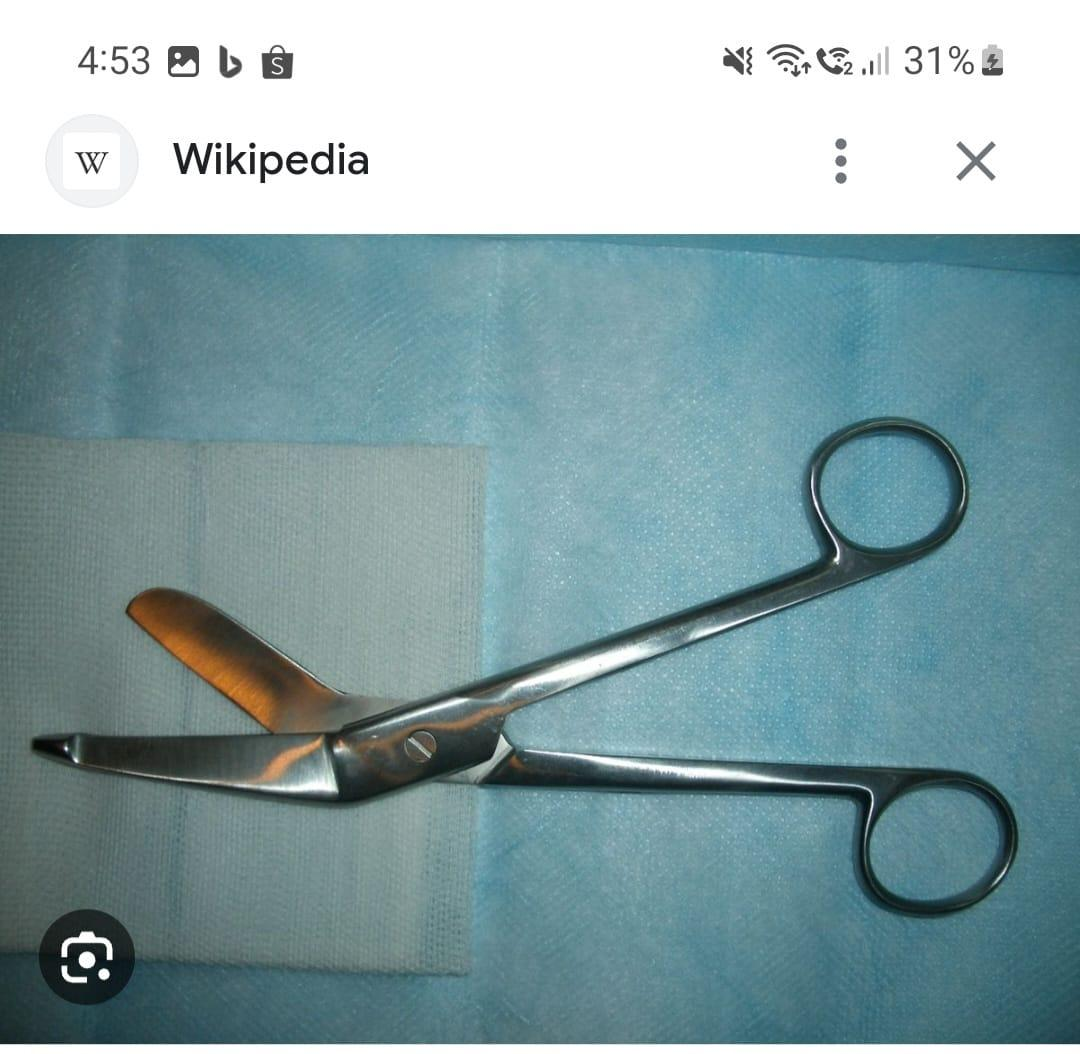Bandage Sciccors: (30, 413, 1023, 918)
